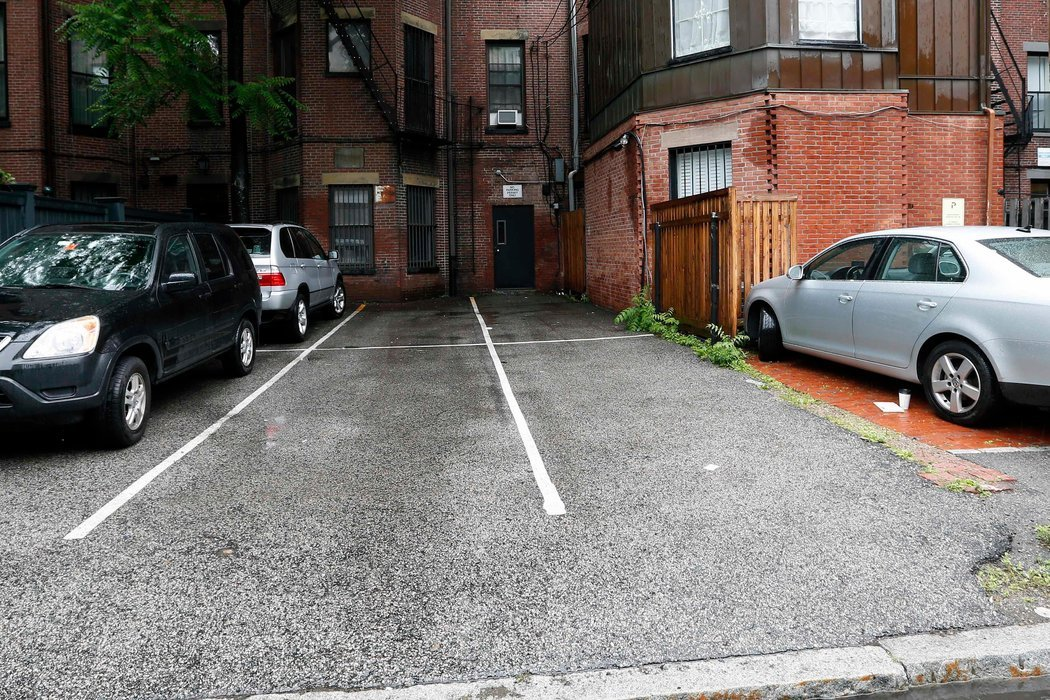empty_space: (72, 324, 570, 561), (470, 333, 974, 547), (466, 288, 662, 356), (302, 288, 499, 350)
